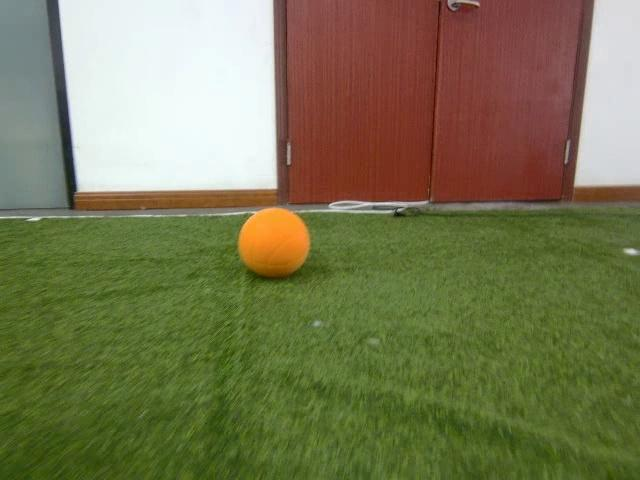orange_ball: (238, 207, 310, 277)
